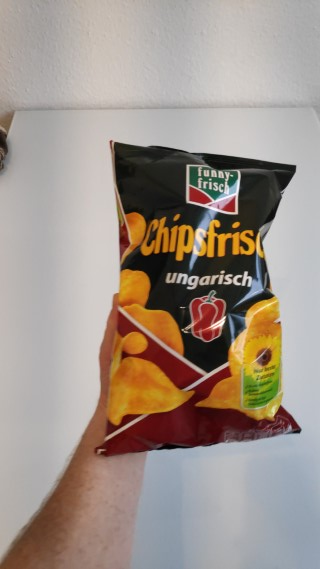chipsfrisch: (94, 138, 301, 456)
